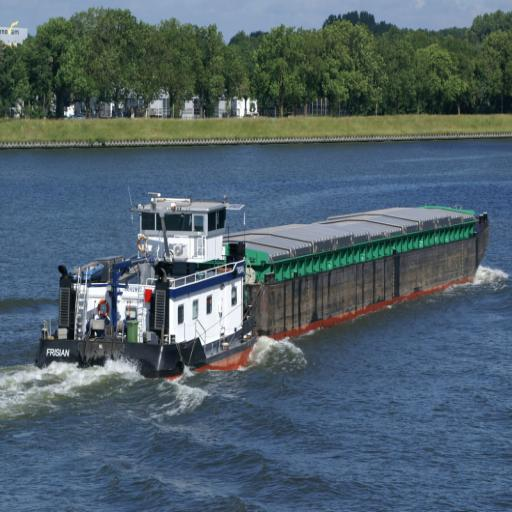tugboat: (34, 184, 263, 392)
